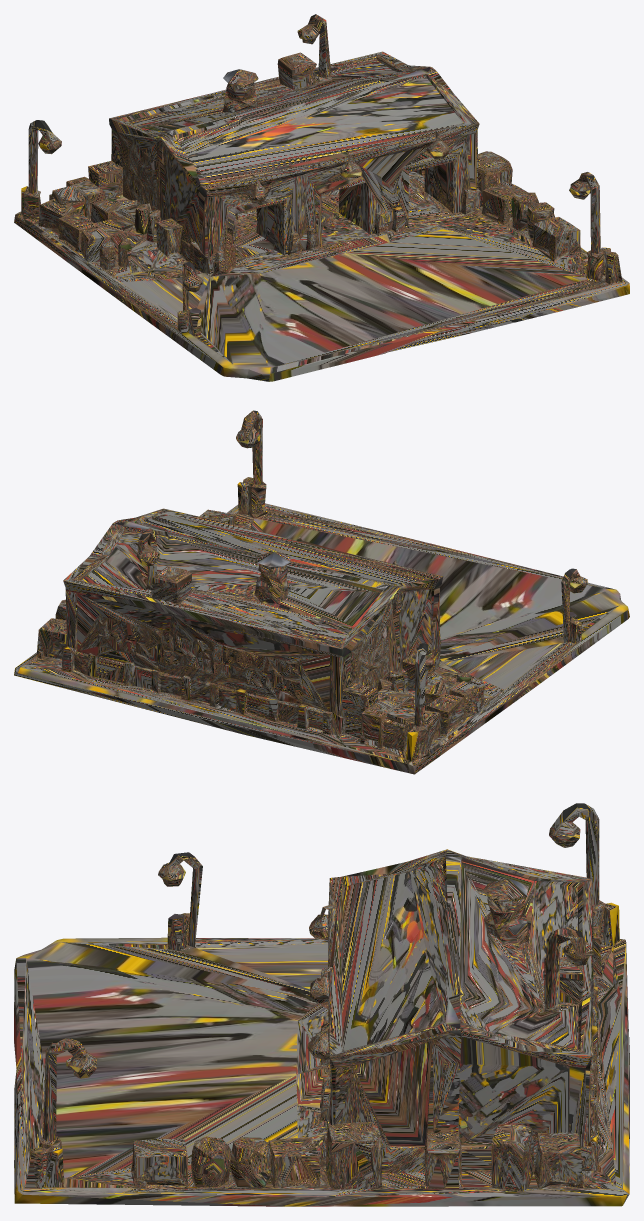
The model's file is truck_depot_bottom_entrance_se.glb.
The picture shows the model from 3 angles, top to bottom: view 1: azimuth 30°, elevation 25°; view 2: azimuth 150°, elevation 25°; view 3: azimuth 270°, elevation 25°; orthographic projection. The views are drawn at different scales.
Parts seen in each view (by area): view 1: normalize; view 2: normalize; view 3: normalize.
Part boxes in pixels (x1=…): normalize: x1=14, y1=14, x2=629, y2=381; normalize: x1=14, y1=410, x2=629, y2=774; normalize: x1=14, y1=803, x2=629, y2=1206.
Size of the model in its own units: 0.9926 by 0.3709 by 1.
Materials: 1 (1 with a texture image).
